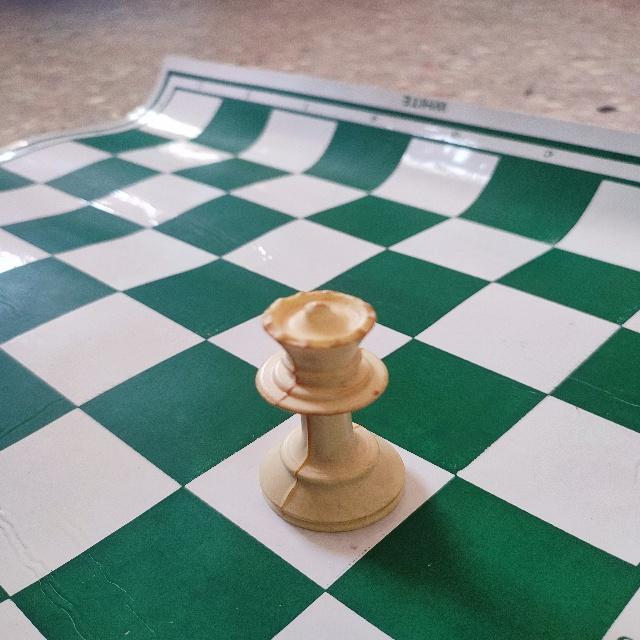Queen: (250, 284, 410, 537)
